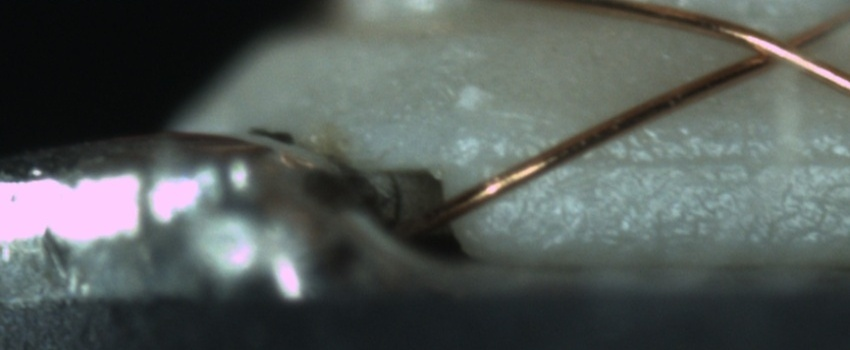CL: (729, 18, 832, 77)
DL: (535, 127, 849, 195)
